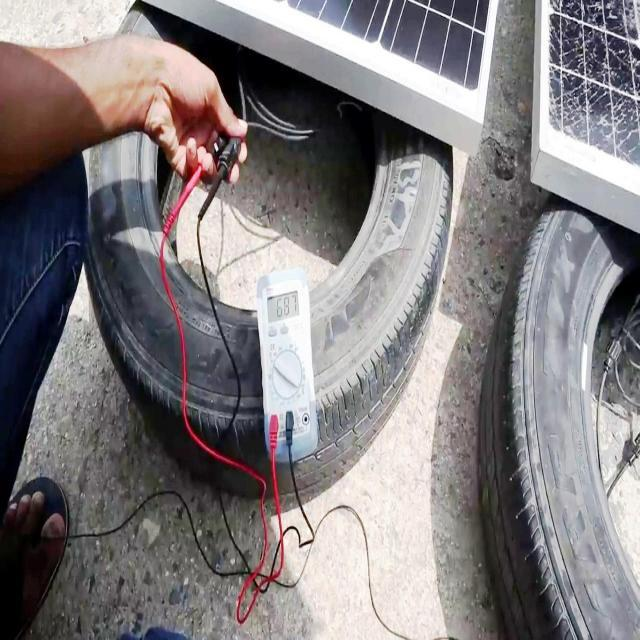faulty: (544, 2, 640, 200)
no faulty: (252, 0, 496, 118)
